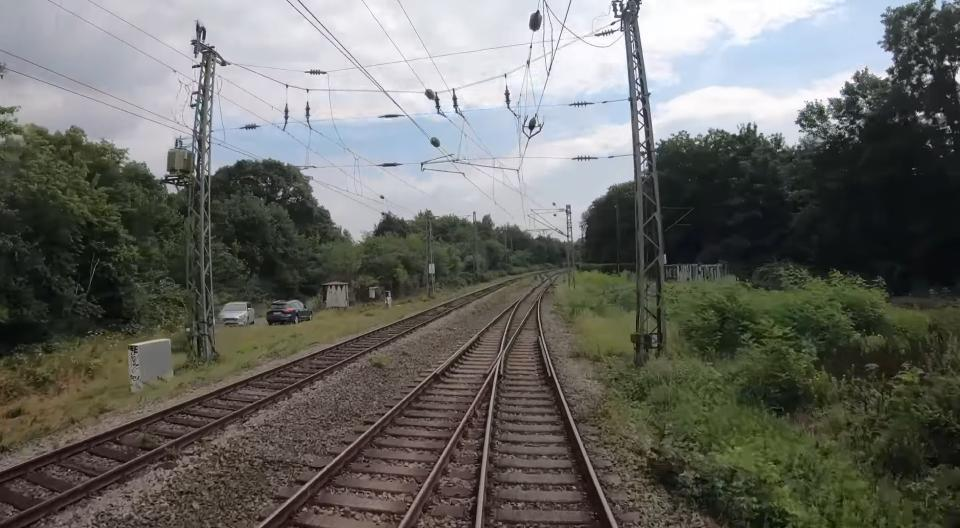Plant: (556, 272, 944, 528)
